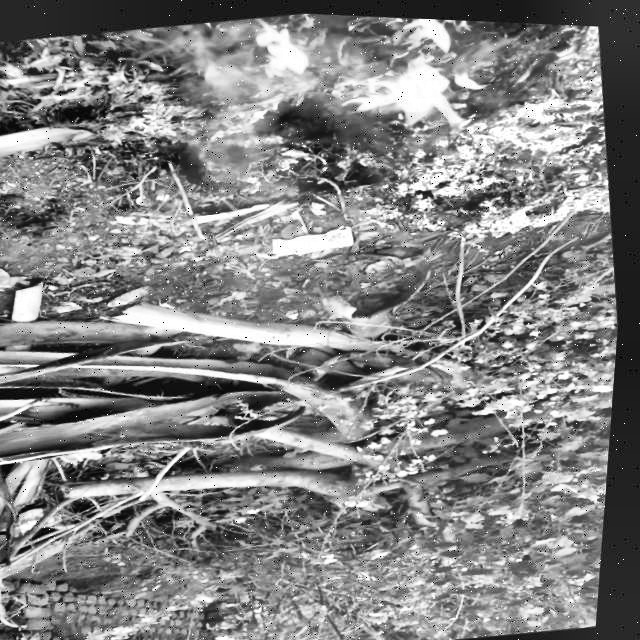Fire: (331, 12, 491, 140), (248, 10, 316, 78)
